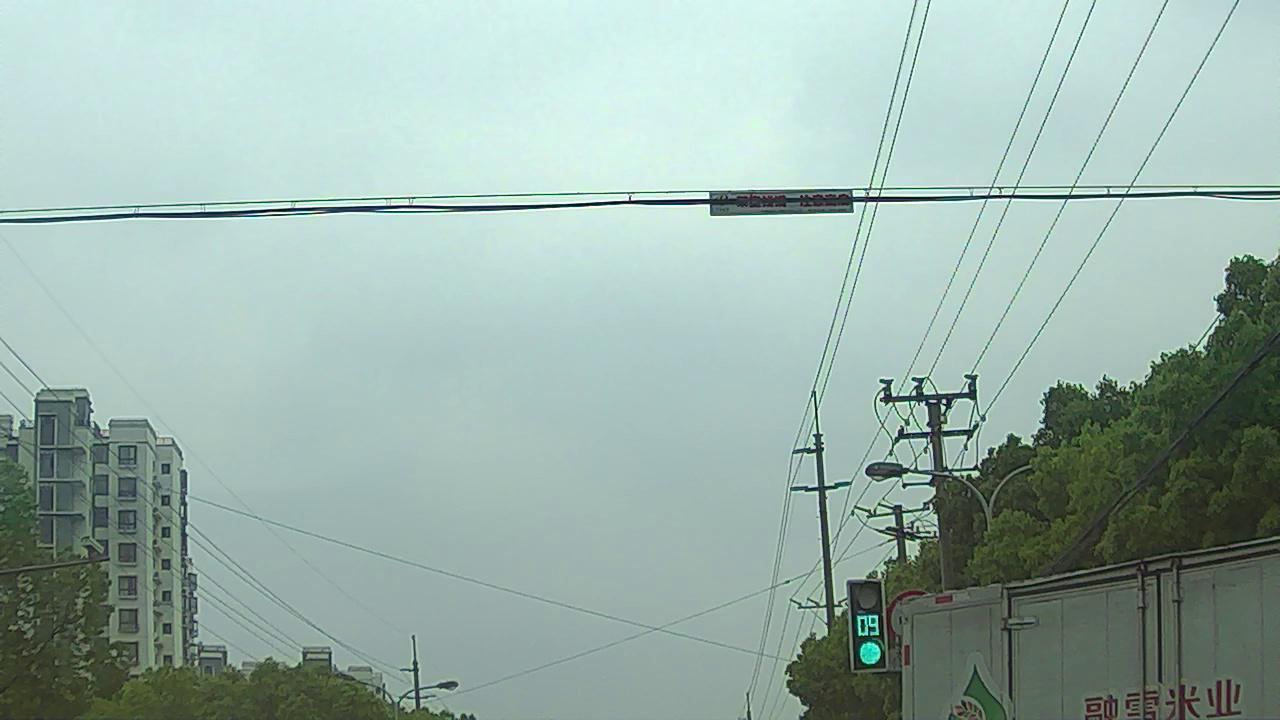traffic_light: (846, 575, 884, 667)
